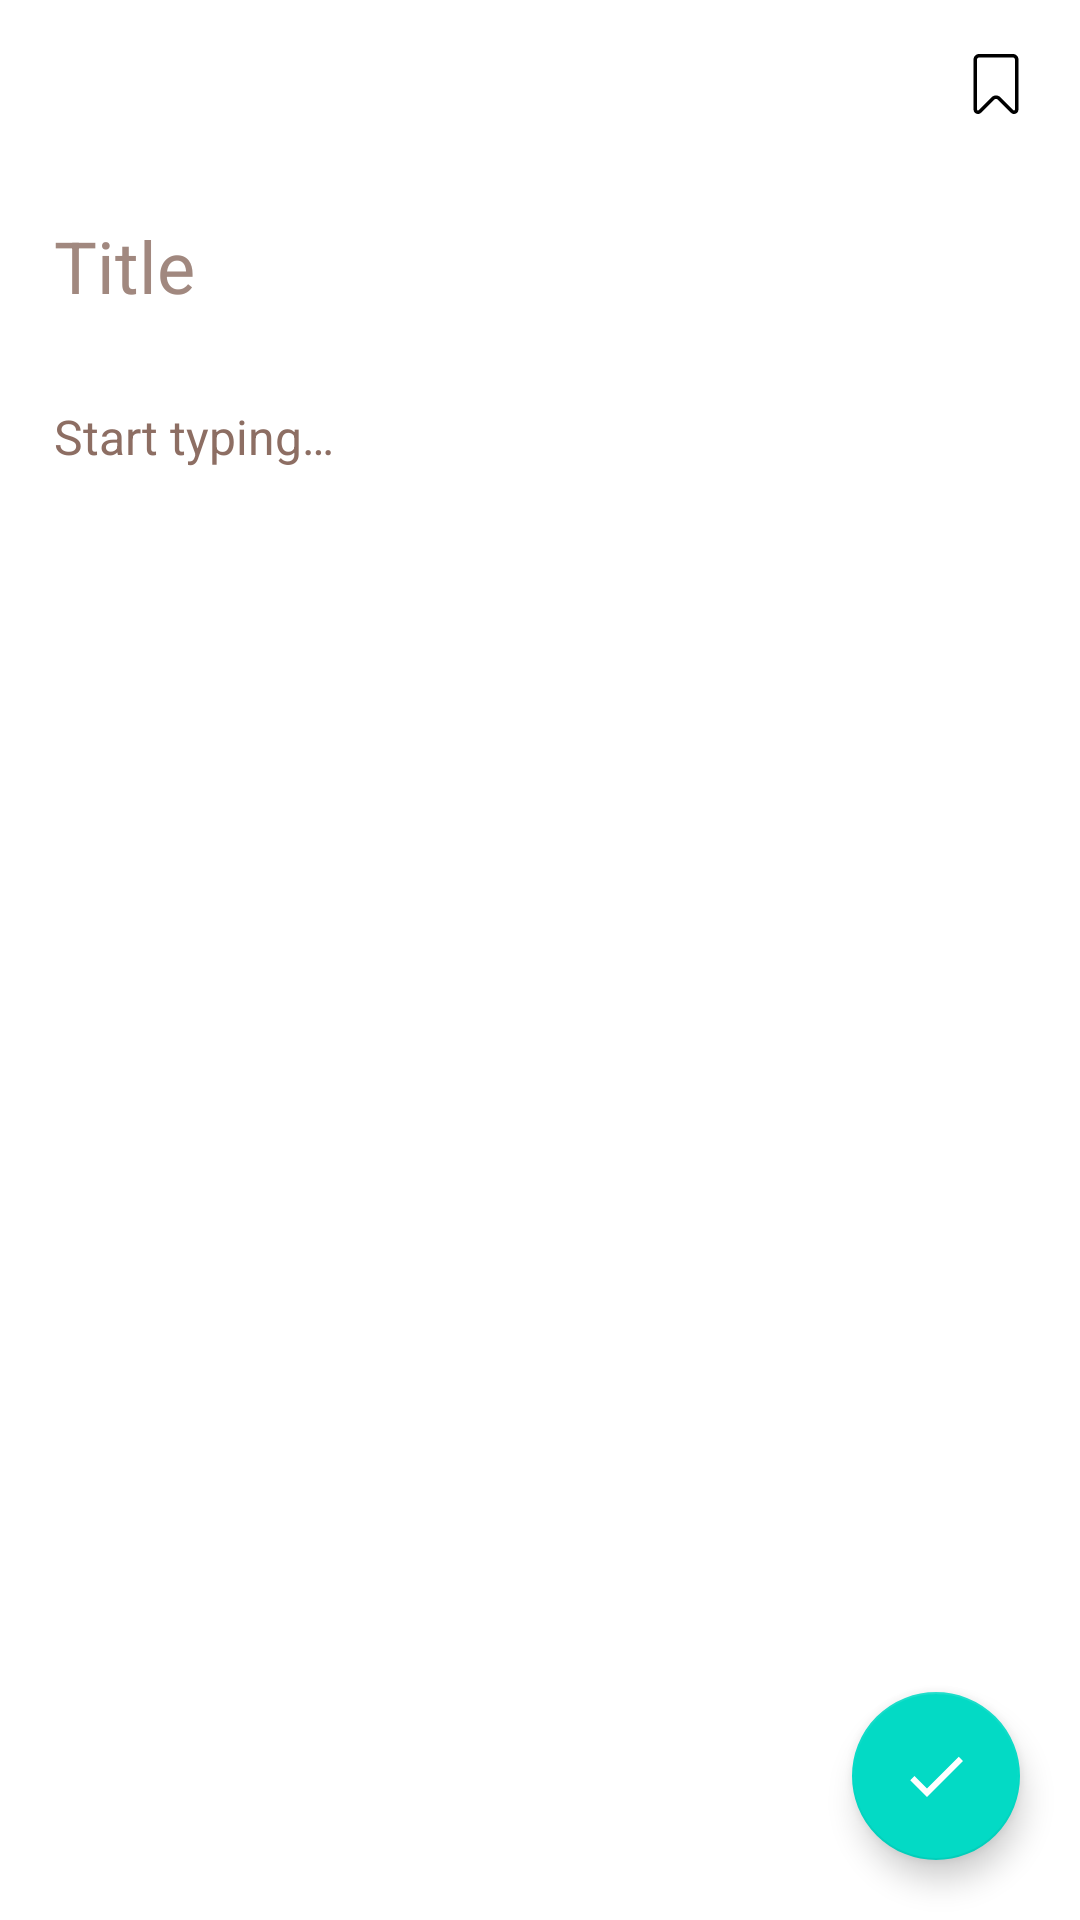

Screen size 1080 x 1920. Icon name, then its box in pixels as (x1, y1, x2, y2):
check: (852, 1692, 1020, 1860)
fav: (973, 54, 1019, 114)
